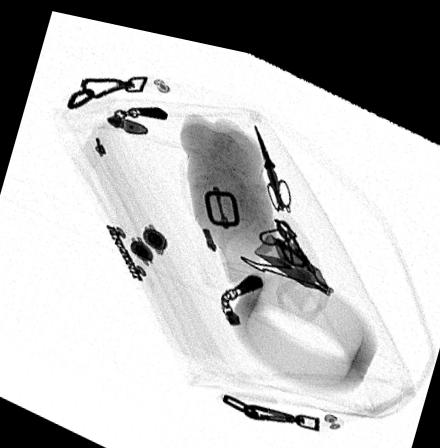Scissors: (252, 114, 293, 200)
